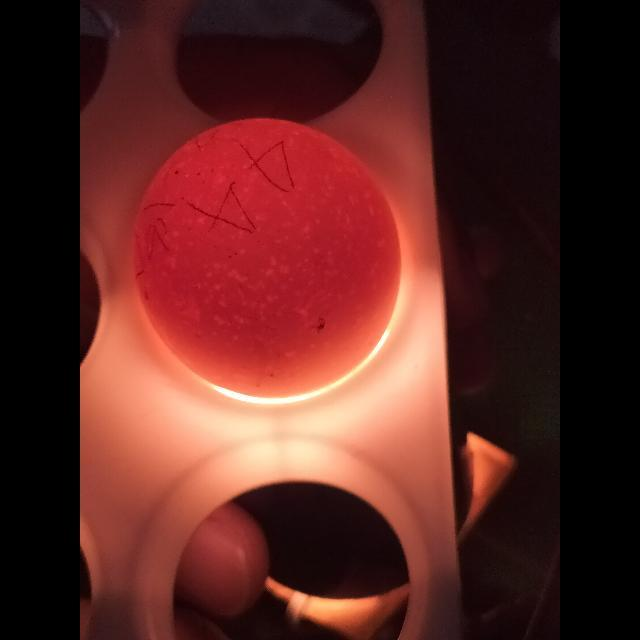Infertile: (136, 117, 402, 395)
